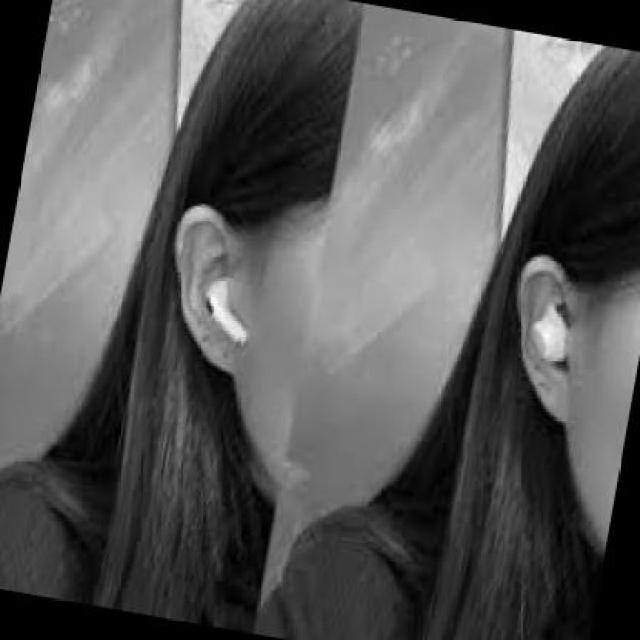earphone: (193, 263, 272, 376), (508, 290, 581, 384)
